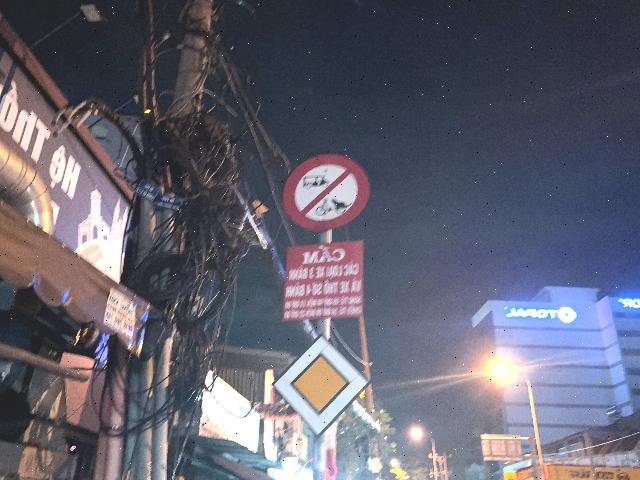bat-dau-duong-uu-tien: (272, 333, 370, 438)
cam-xe-3-banh-xe-tho-so-4-banh: (283, 154, 370, 232)
